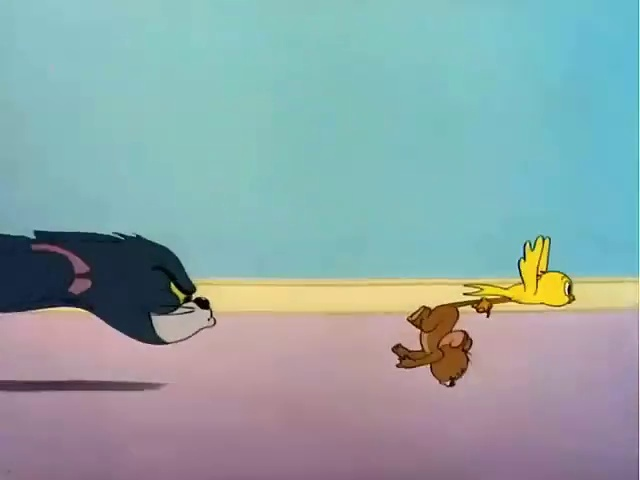jerry: (380, 272, 508, 397)
tom: (0, 208, 232, 374)
